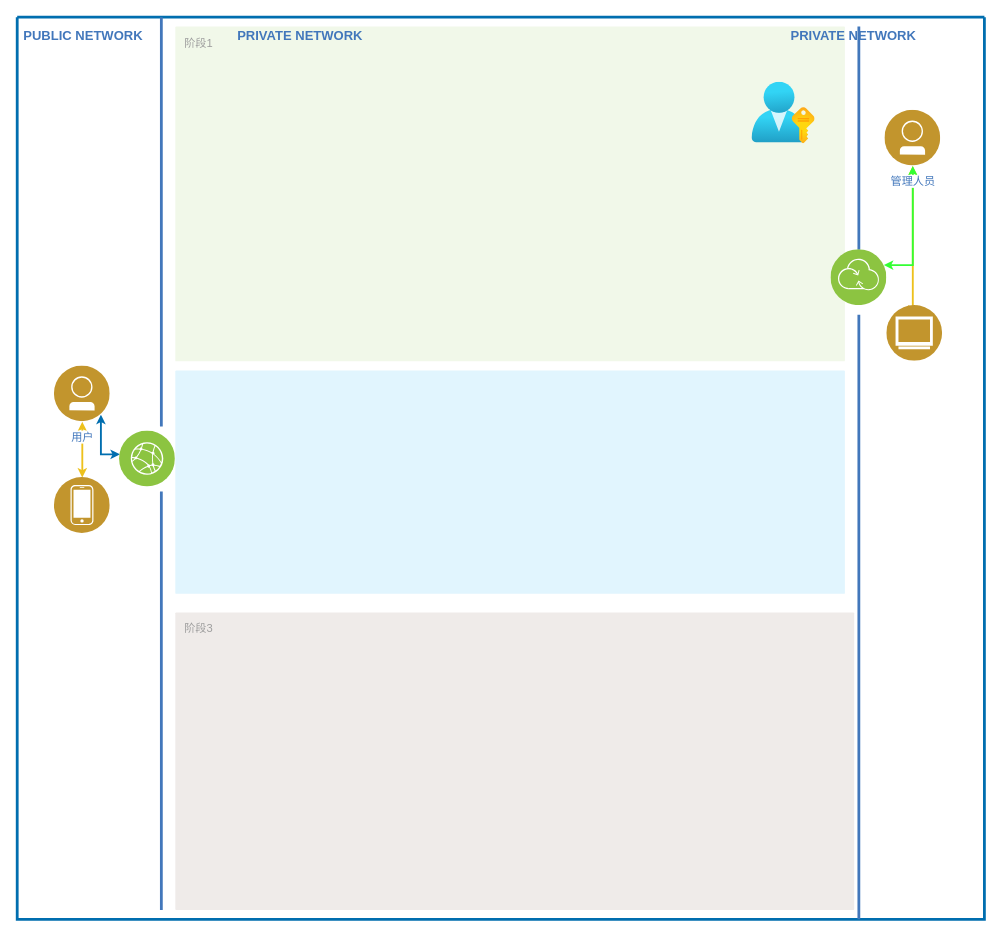
This 1002x937 diagram has some shape labels left out. The centre of each missing label's shape, as x and y in pixels:
系统自带超级管理员: (783,112)
阶段2: (509,481)
